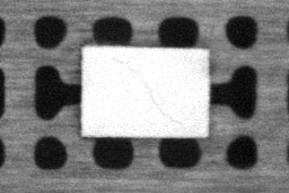DIE_CRACK: (114, 57, 183, 126)
